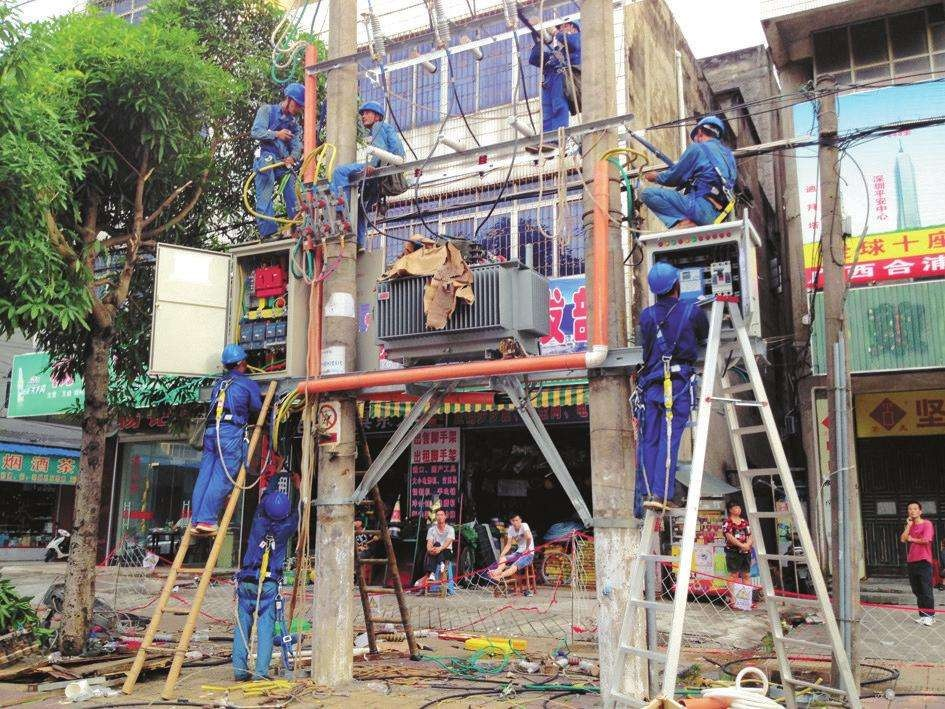blue: (647, 261, 685, 302), (216, 339, 249, 379), (688, 111, 722, 148), (276, 80, 307, 117), (356, 96, 383, 127)
none: (906, 499, 922, 520), (433, 507, 448, 525), (729, 499, 742, 517), (507, 512, 521, 528)
